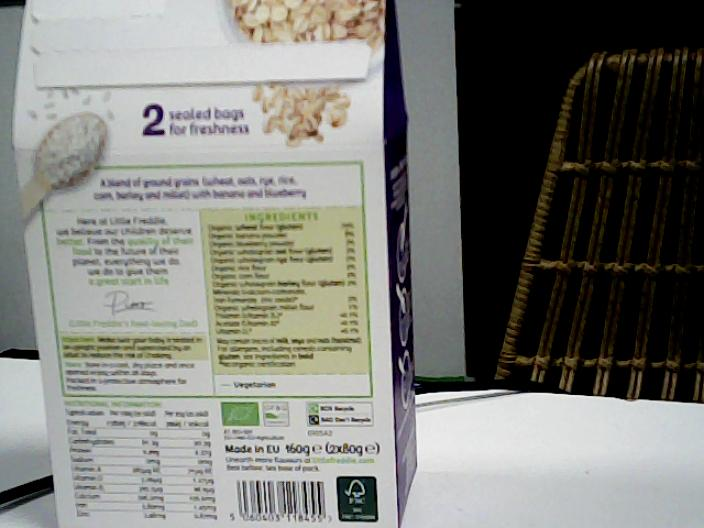Babyfood_100-199g_NonHalal_NonHealthy: (55, 97, 382, 528)
